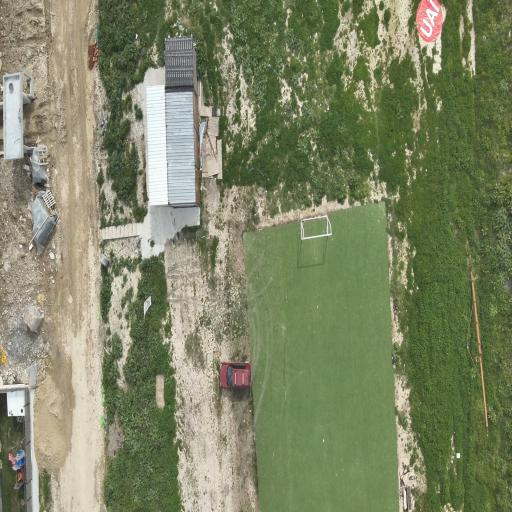car: (220, 363, 251, 388)
uai: (416, 0, 443, 42)
